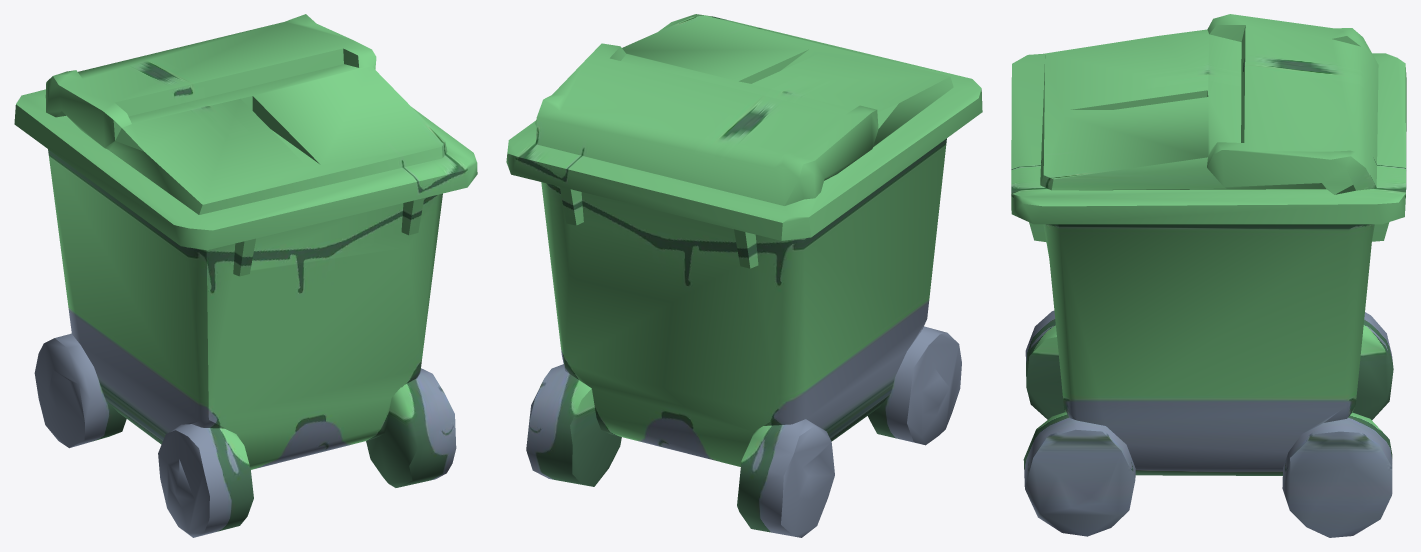
The picture shows the model from 3 angles, left to right: view 1: azimuth 30°, elevation 25°; view 2: azimuth 150°, elevation 25°; view 3: azimuth 270°, elevation 25°; orthographic projection. The views are drawn at different scales.
Visible parts, largest first — view 1: Decor_dumpster_b; view 2: Decor_dumpster_b; view 3: Decor_dumpster_b.
Part boxes in pixels (left/top/right/bottom): Decor_dumpster_b: left=14, top=14, right=477, bottom=537; Decor_dumpster_b: left=506, top=14, right=982, bottom=537; Decor_dumpster_b: left=1011, top=14, right=1406, bottom=537.
Bounding box in the file's own units: 1.08 × 1.3 × 1.18.
1 material, 1 textured.
